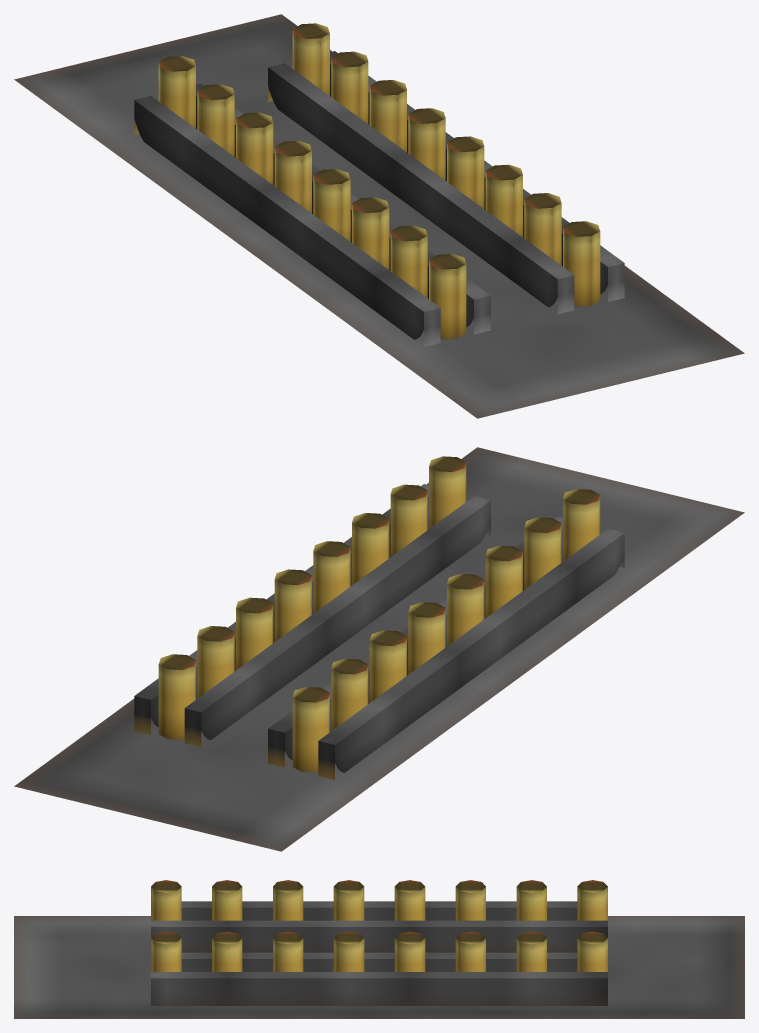
Rendered from ammo_press_shells_world.obj.
3 views of the same model, one above another, from view 1: azimuth 30°, elevation 25°; view 2: azimuth 150°, elevation 25°; view 3: azimuth 270°, elevation 25° (orthographic). The views are drawn at different scales.
Visible parts, largest first — view 1: Shells; view 2: Shells; view 3: Shells.
Boxes of the visible parts, x1,y1,x2,y2 form: Shells: (14, 14, 744, 418); Shells: (14, 447, 744, 851); Shells: (14, 880, 744, 1018).
Bounding box in the file's own units: 0.5 × 0.125 × 1.5.
